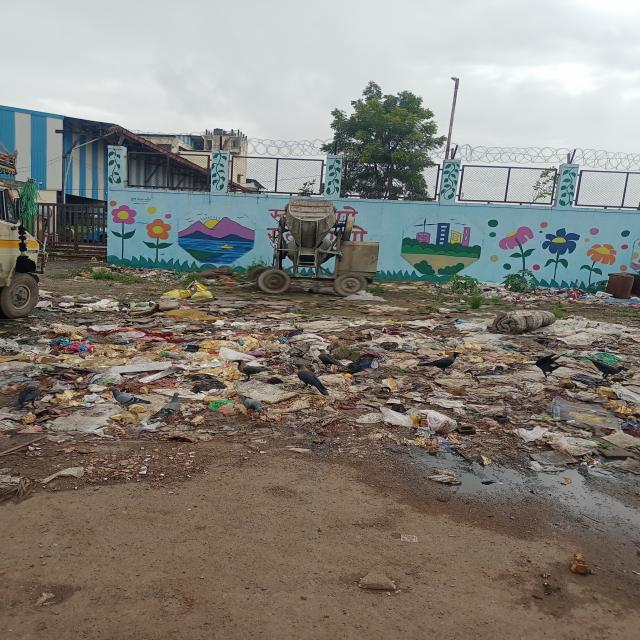garbage: (0, 296, 640, 486), (380, 277, 640, 311), (89, 266, 258, 289)
